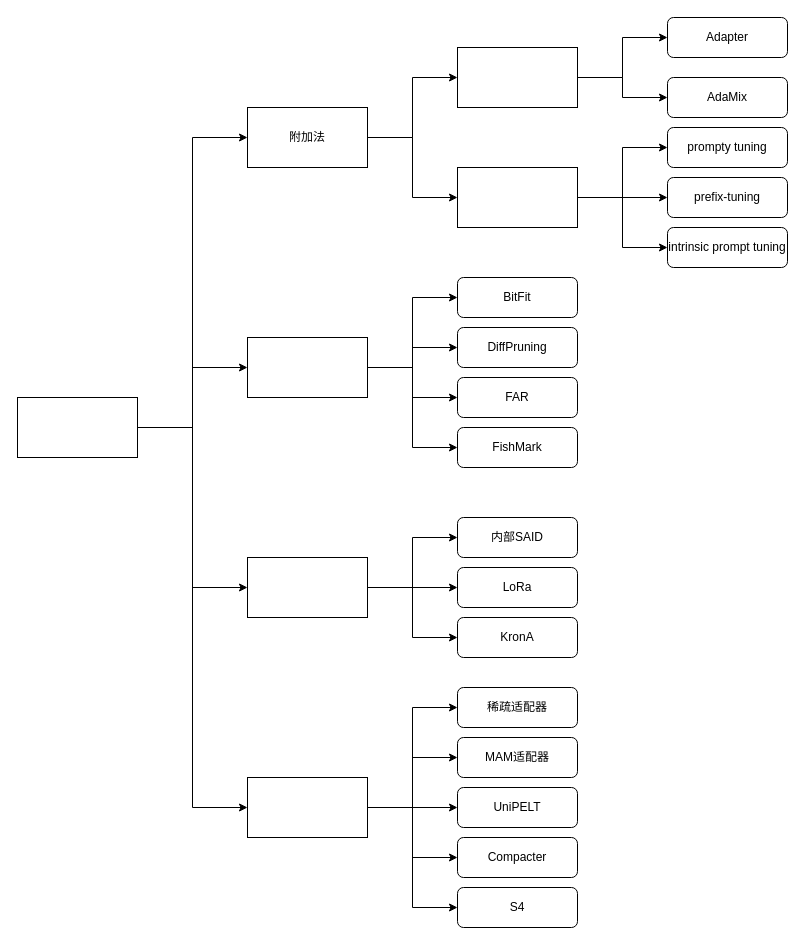
Image size: 805x945. Some labels were removed from this diagram. Here are the shapes that lost their labels. From the top down, the box of each, then its label:
(456, 46, 578, 108): 适配器
(456, 166, 578, 228): 软提示
(246, 336, 368, 398): 选择法
(16, 396, 138, 458): 快速训练
(246, 556, 368, 618): 基于重参数化
(246, 776, 368, 838): 混合方法
